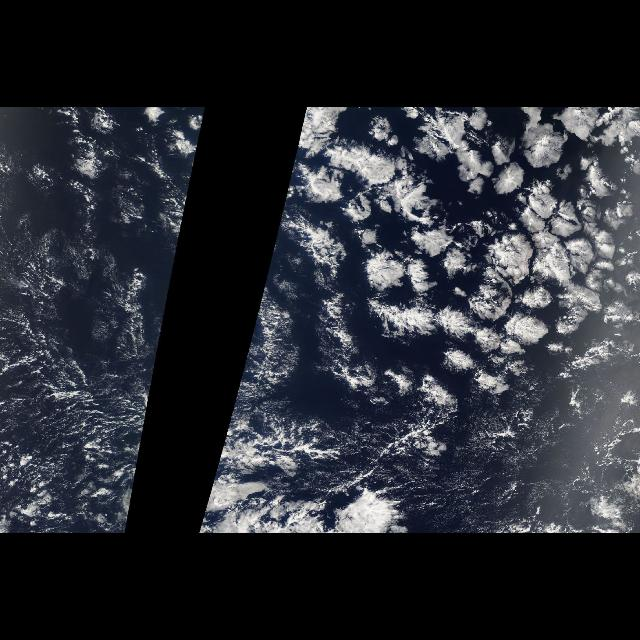Flower: (285, 134, 639, 403)
Sugar: (0, 232, 156, 488)
